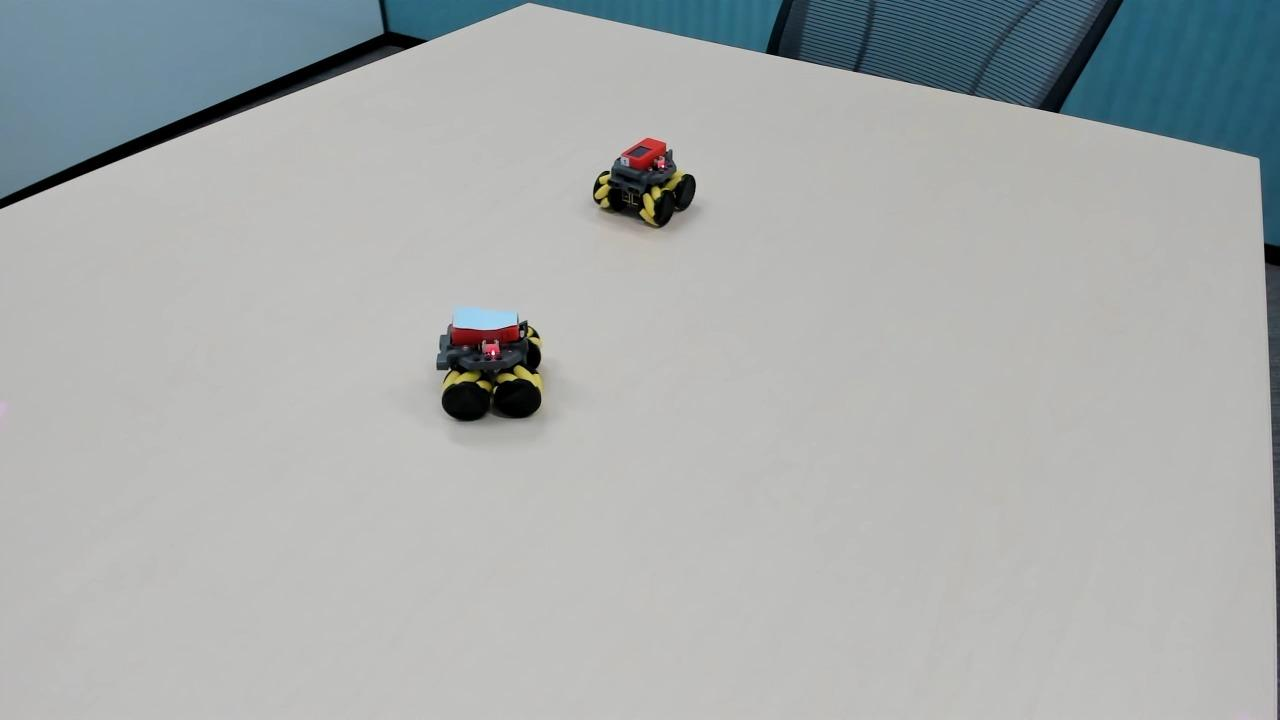B-Robot: (412, 286, 550, 430)
R-Robot: (580, 122, 704, 242)
